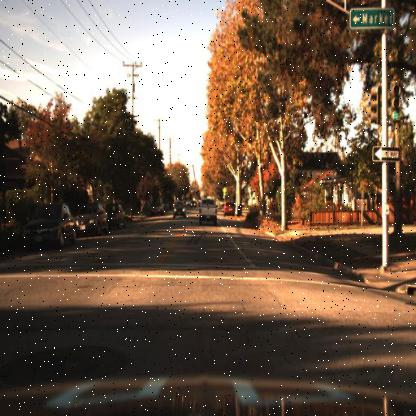car: (22, 203, 78, 252), (73, 200, 108, 238), (102, 194, 126, 228), (199, 194, 218, 225), (148, 196, 164, 218), (171, 198, 187, 220), (222, 198, 236, 216), (189, 199, 197, 211)
